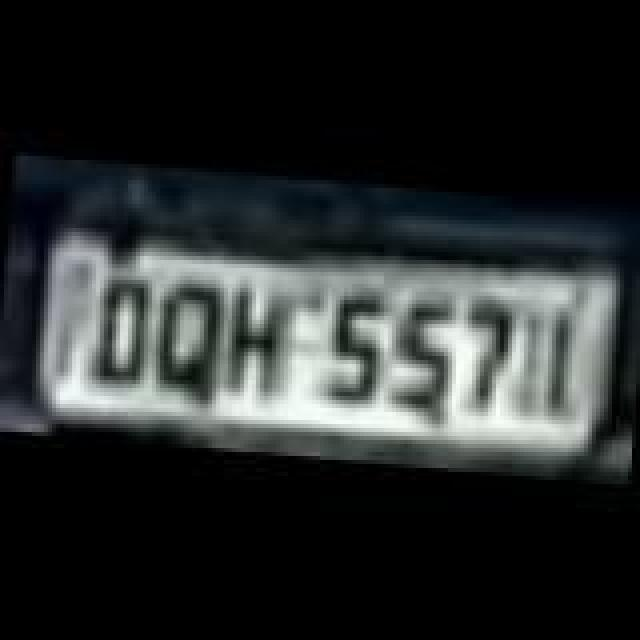1: (538, 302, 582, 418)
5: (316, 292, 388, 412), (388, 294, 460, 410)
7: (456, 300, 520, 420)
D: (88, 268, 152, 388)
H: (218, 282, 294, 406)
Q: (152, 276, 232, 396)
